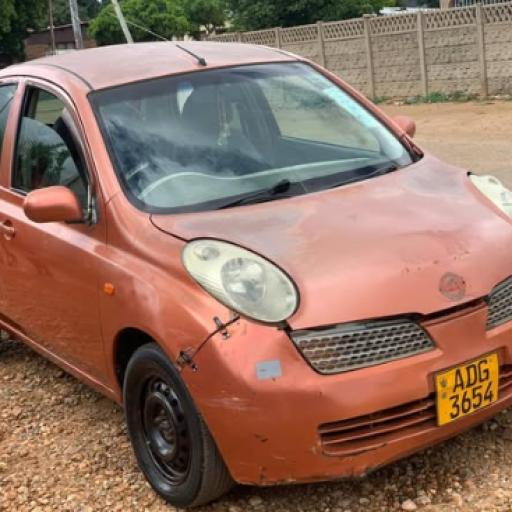number-plates: (435, 357, 500, 416)
